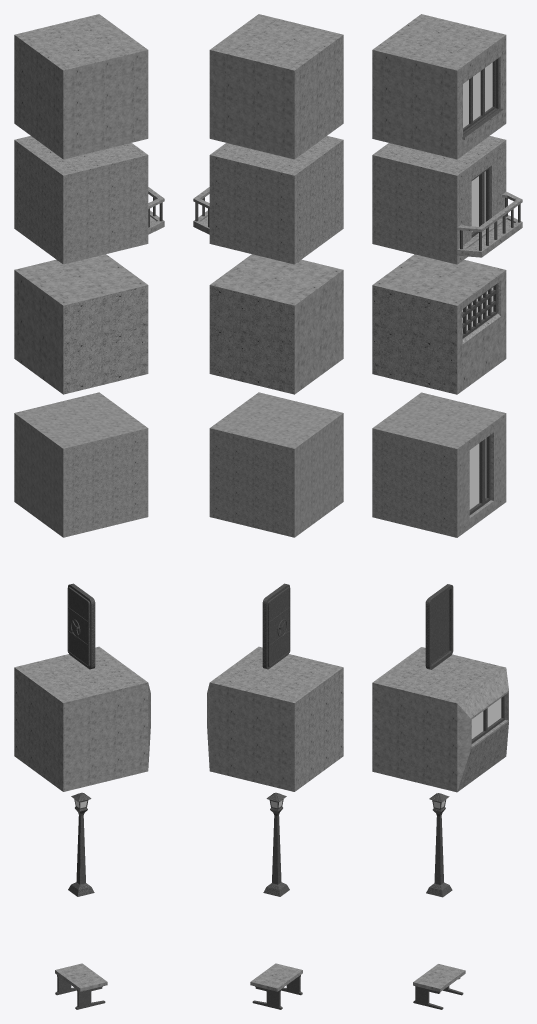
File: Block a.fbx
3 views of the same model, side by side, from view 1: azimuth 30°, elevation 25°; view 2: azimuth 150°, elevation 25°; view 3: azimuth 330°, elevation 25° (orthographic).
Visible parts, largest first — view 1: Cube.002, Cube, Cube.001, Cube.004, Cube.003, Door, Cube.006, Cube.005, DoorFrame; view 2: Cube.002, Cube, Cube.001, Cube.004, Cube.003, Door, Cube.006, Cube.005, DoorFrame; view 3: Cube, Cube.002, Cube.001, Cube.004, Cube.003, Cube.006, Door, Cube.005, DoorFrame.
Part boxes in pixels (x1,y1,x2,y2): Cube.002: (14,392,148,537); Cube: (14,14,148,159); Cube.001: (14,646,150,791); Cube.004: (14,254,148,394); Cube.003: (14,136,164,264); Door: (67,587,90,667); Cube.006: (55,963,107,1009); Cube.005: (68,792,94,896); DoorFrame: (68,583,95,669); Cube.002: (209,392,343,537); Cube: (209,14,343,159); Cube.001: (207,646,343,791); Cube.004: (209,254,343,394); Cube.003: (193,136,343,264); Door: (267,587,290,667); Cube.006: (250,963,302,1009); Cube.005: (263,792,289,896); DoorFrame: (262,583,289,669); Cube: (372,14,506,159); Cube.002: (372,392,506,537); Cube.001: (372,647,508,792); Cube.004: (372,254,506,394); Cube.003: (372,136,522,264); Cube.006: (413,964,465,1009); Door: (425,590,449,664); Cube.005: (426,793,452,897); DoorFrame: (425,584,453,669).
Bounding box in the file's own units: 248 × 2151 × 200.
